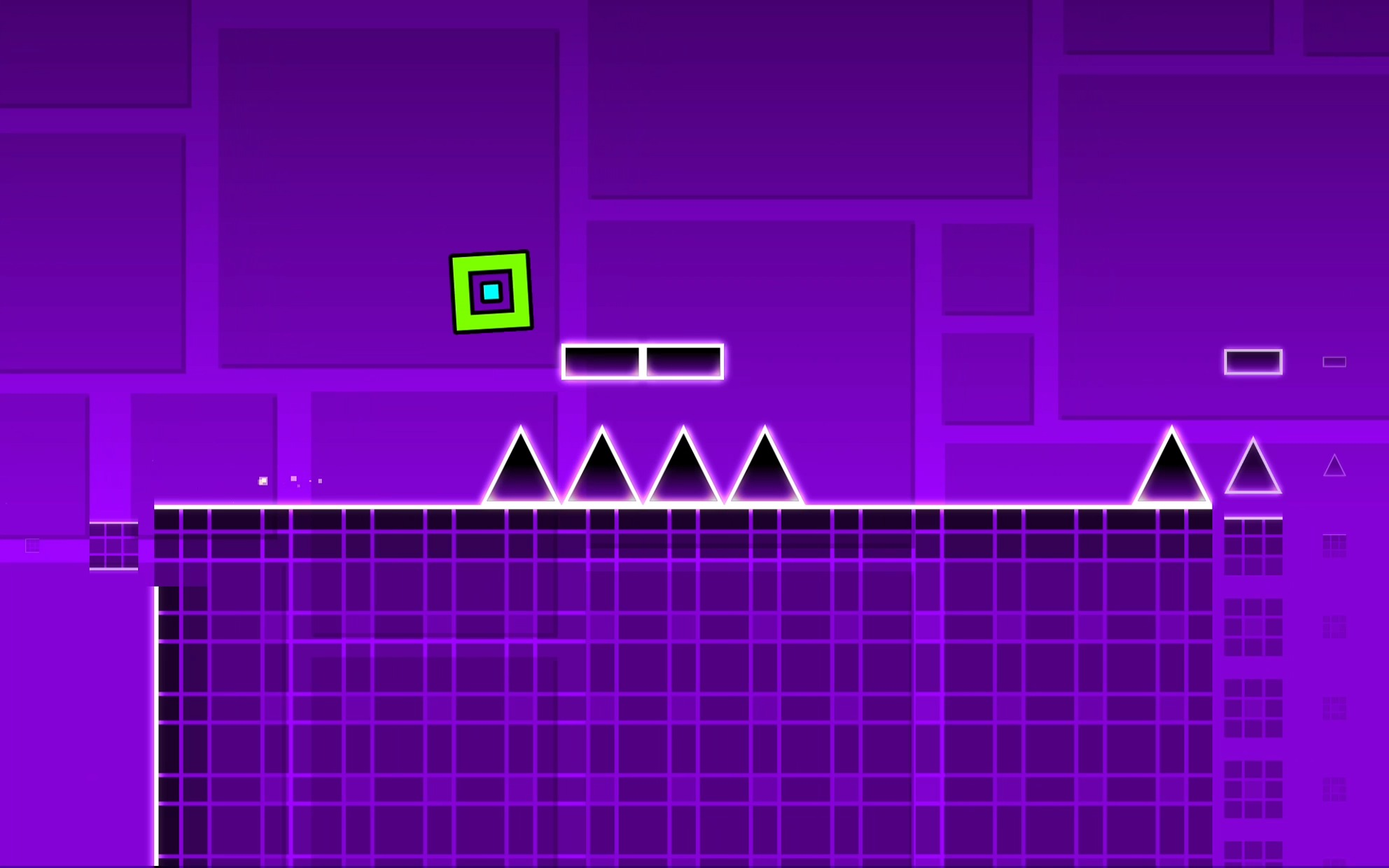Block2: (163, 504, 1316, 825), (87, 521, 138, 569)
Block3: (560, 343, 726, 380), (1223, 349, 1281, 374)
Player: (450, 250, 533, 331)
Spike: (1134, 429, 1211, 506), (487, 428, 561, 505), (731, 428, 803, 504), (651, 428, 722, 504), (570, 429, 641, 504), (1226, 441, 1281, 496)
